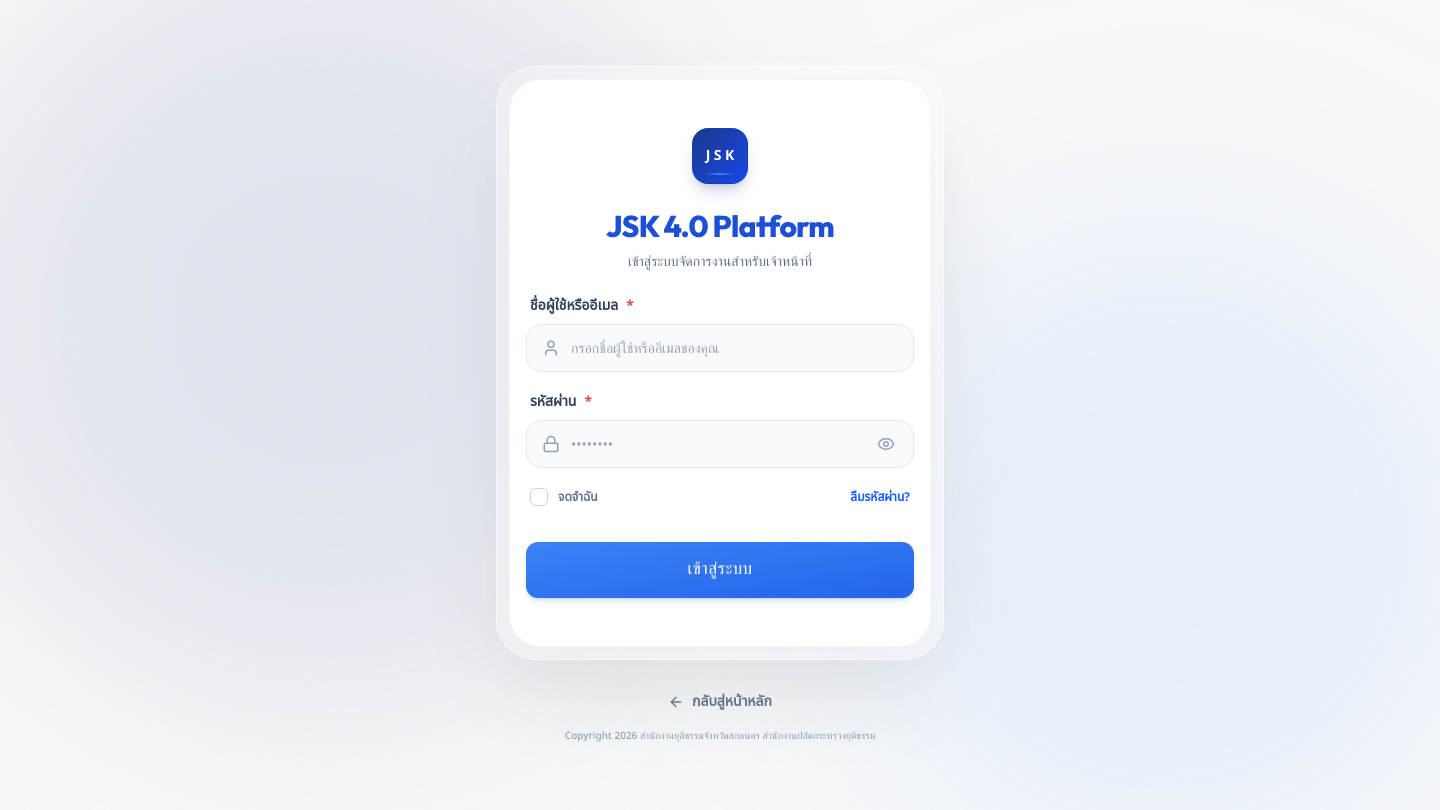
Test case: Login form error ARIA wiring (R3-M30) › wires both error messages to their inputs
The width and height of the screenshot is (1440, 810).
Click the button "เข้าสู่ระบบ" at (720, 570), box [526,542,914,598]
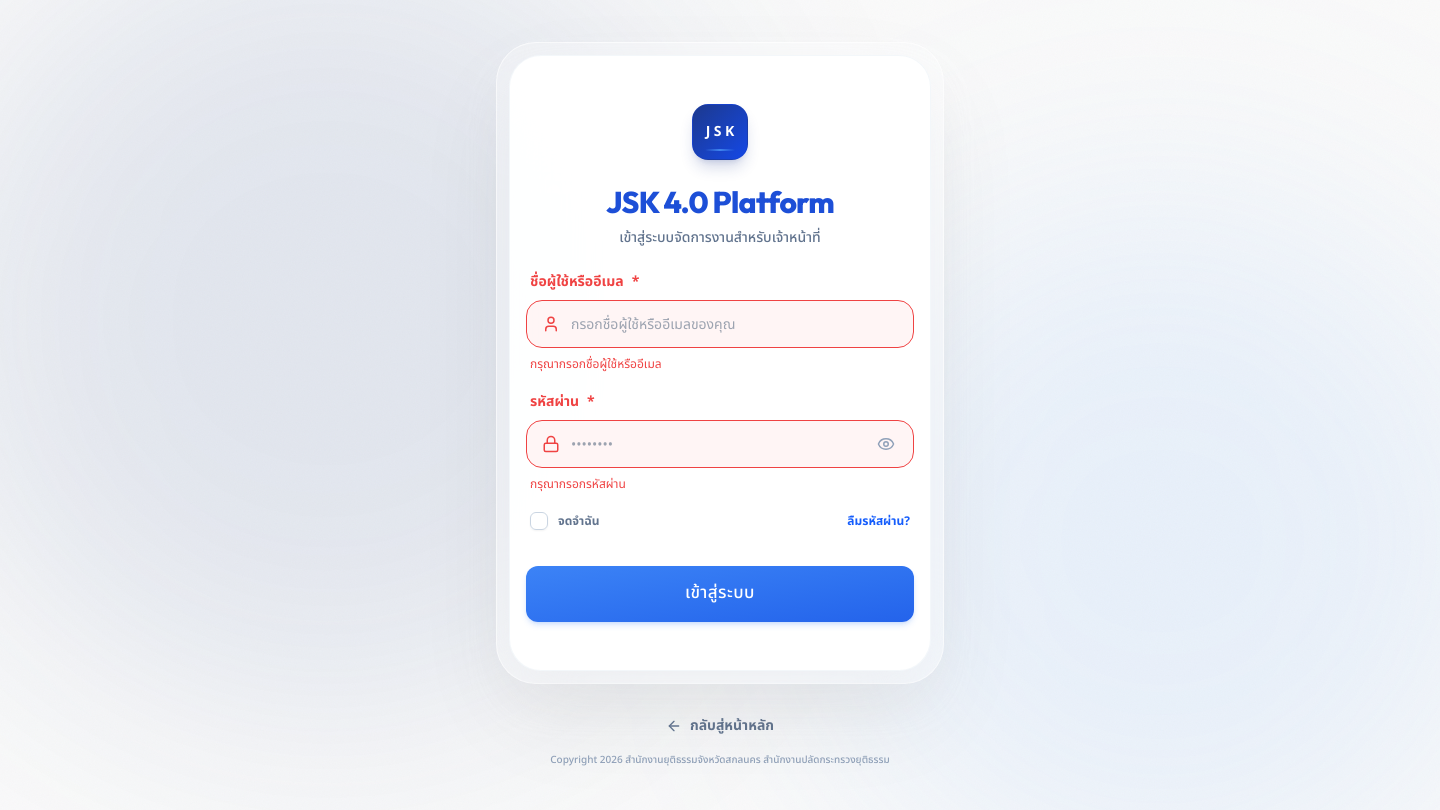
Check: the number of messages is 2, box [530,355,662,373]; [530,475,626,493]
Check: the message "กรุณากรอกชื่อผู้ใช้หรืออีเมล" is shown, box [530,355,662,373]
Check: the message "กรุณากรอกรหัสผ่าน" is shown, box [530,475,626,493]
